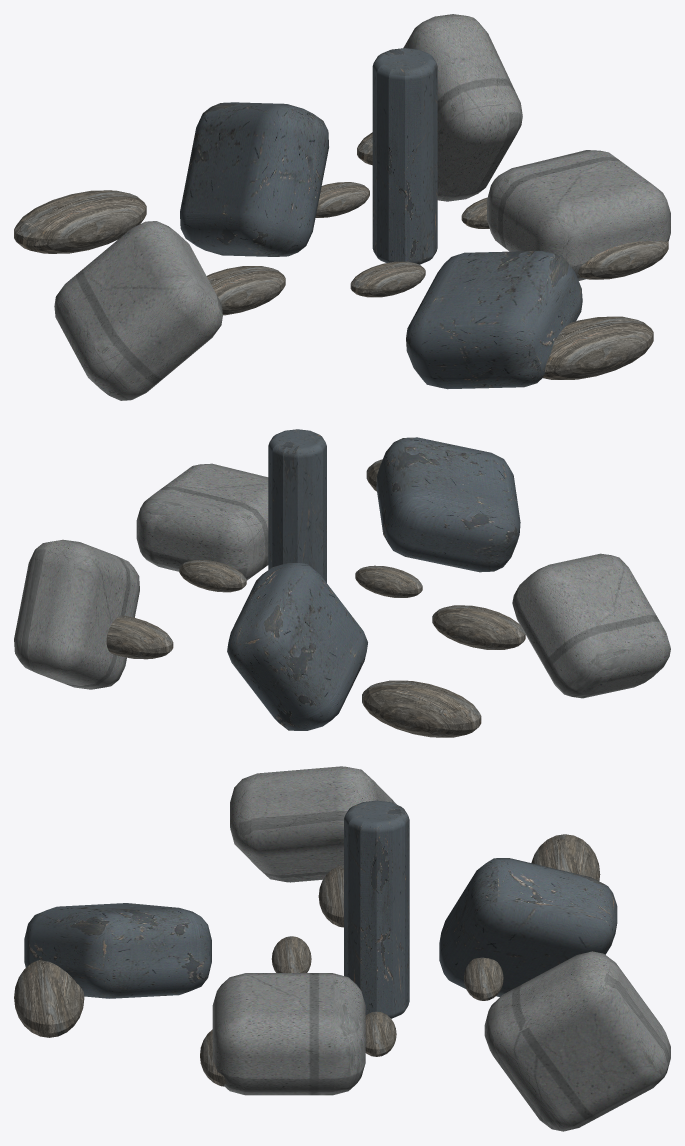
Rendered from debris_cluster.glb.
3 views of the same model, one above another, from view 1: azimuth 30°, elevation 25°; view 2: azimuth 150°, elevation 25°; view 3: azimuth 270°, elevation 25° (orthographic). The views are drawn at different scales.
Parts seen in each view (by area): view 1: Debris2, Debris3, Debris1, Debris0, DebrisPipe, Debris4, DebrisShard05, DebrisShard02, DebrisShard04, DebrisShard01, DebrisShard03, DebrisShard06 (+1 smaller); view 2: Debris3, Debris2, Debris1, Debris4, Debris0, DebrisPipe, DebrisShard05, DebrisShard04, DebrisShard07, DebrisShard00, DebrisShard03; view 3: Debris4, Debris0, Debris3, Debris1, DebrisPipe, Debris2, DebrisShard02, DebrisShard05, DebrisShard06, DebrisShard03, DebrisShard04, DebrisShard00 (+1 smaller).
Boxes of the visible parts, x1=… form: Debris2: x1=54, y1=221, x2=222, y2=400; Debris3: x1=180, y1=102, x2=328, y2=256; Debris1: x1=406, y1=251, x2=582, y2=389; Debris0: x1=487, y1=150, x2=670, y2=280; DebrisPipe: x1=372, y1=48, x2=437, y2=264; Debris4: x1=403, y1=14, x2=522, y2=201; DebrisShard05: x1=14, y1=190, x2=146, y2=253; DebrisShard02: x1=542, y1=316, x2=653, y2=379; DebrisShard04: x1=207, y1=266, x2=285, y2=315; DebrisShard01: x1=578, y1=240, x2=668, y2=279; DebrisShard03: x1=350, y1=261, x2=425, y2=297; DebrisShard06: x1=315, y1=182, x2=369, y2=217; Debris3: x1=227, y1=563, x2=367, y2=730; Debris2: x1=512, y1=553, x2=670, y2=698; Debris1: x1=376, y1=437, x2=520, y2=572; Debris4: x1=14, y1=539, x2=139, y2=689; Debris0: x1=136, y1=463, x2=268, y2=580; DebrisPipe: x1=268, y1=429, x2=326, y2=582; DebrisShard05: x1=362, y1=680, x2=481, y2=737; DebrisShard04: x1=432, y1=605, x2=525, y2=649; DebrisShard07: x1=106, y1=615, x2=173, y2=659; DebrisShard00: x1=179, y1=560, x2=246, y2=592; DebrisShard03: x1=355, y1=565, x2=422, y2=597; Debris4: x1=484, y1=951, x2=670, y2=1131; Debris0: x1=212, y1=973, x2=365, y2=1095; Debris3: x1=439, y1=858, x2=617, y2=996; Debris1: x1=24, y1=903, x2=211, y2=998; DebrisPipe: x1=344, y1=800, x2=409, y2=1018; Debris2: x1=230, y1=766, x2=396, y2=882; DebrisShard02: x1=14, y1=960, x2=84, y2=1037; DebrisShard05: x1=531, y1=834, x2=600, y2=880; DebrisShard06: x1=464, y1=957, x2=503, y2=1000; DebrisShard03: x1=271, y1=936, x2=311, y2=972; DebrisShard04: x1=318, y1=865, x2=343, y2=927; DebrisShard00: x1=365, y1=1011, x2=396, y2=1056.
Bounding box in the file's own units: 5.96 × 2.46 × 6.
3 materials, 3 textured.
